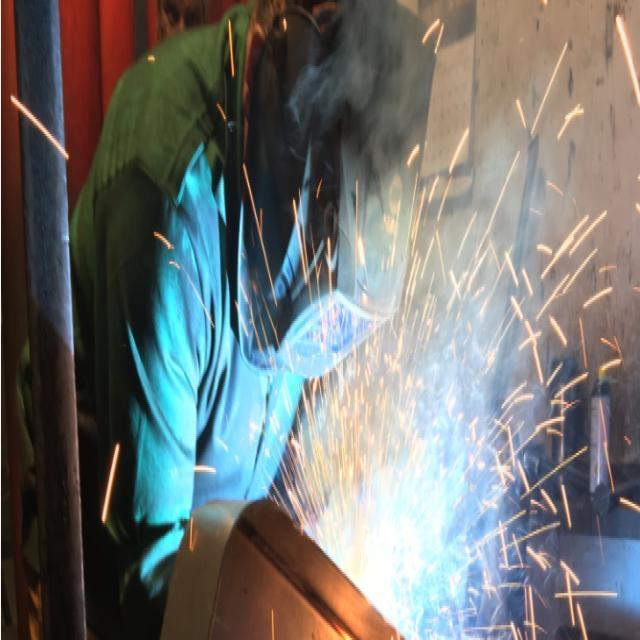with_helmet: (234, 4, 444, 384)
